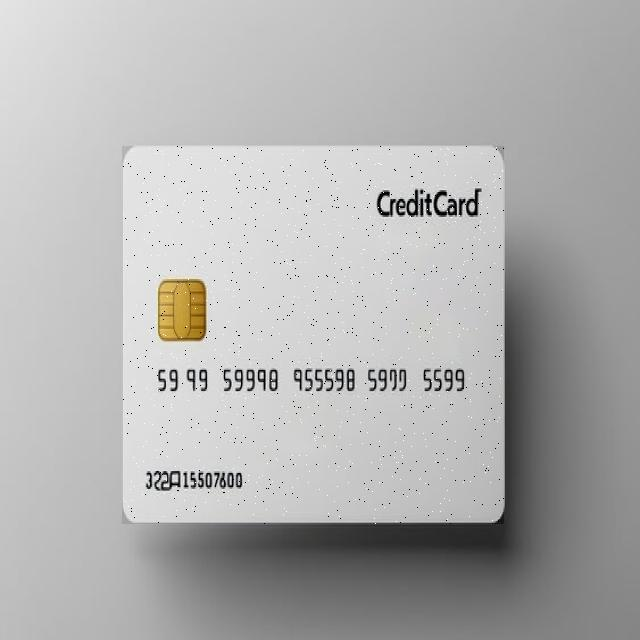payment_card: (121, 143, 506, 525)
